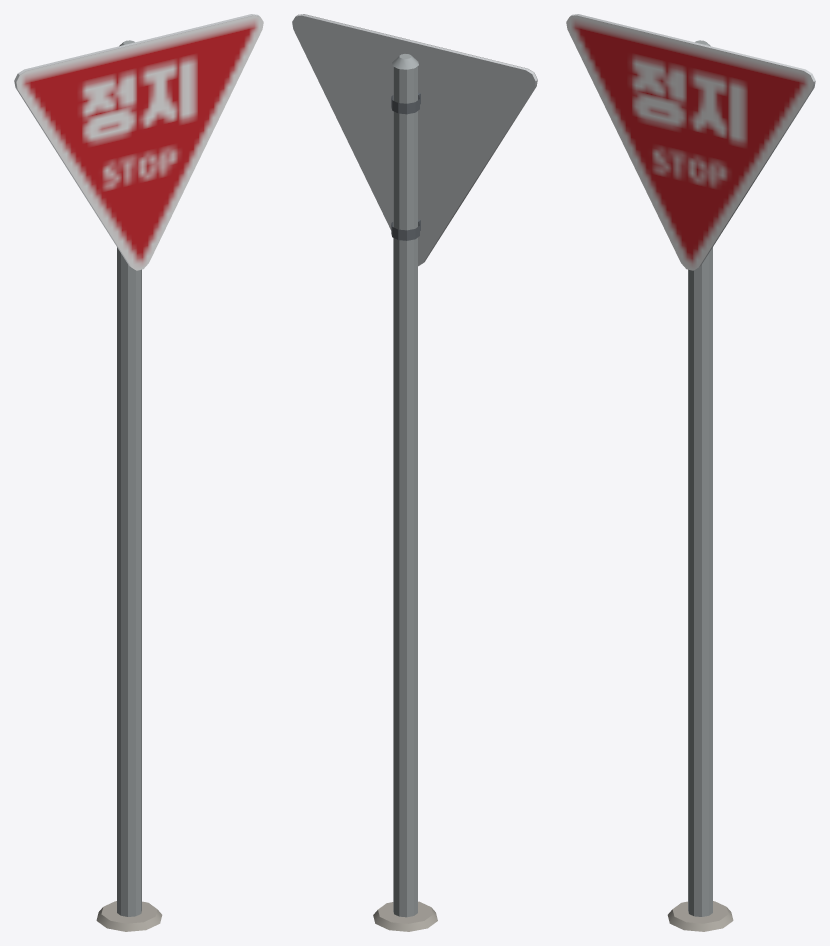
Rendered from SC_Str_Sign_Stop.gltf.
3 renders of one model, left to right at view 1: azimuth 30°, elevation 25°; view 2: azimuth 150°, elevation 25°; view 3: azimuth 330°, elevation 25°, orthographic.
Parts seen in each view (by area): view 1: SC_Str_Sign_Stop; view 2: SC_Str_Sign_Stop; view 3: SC_Str_Sign_Stop.
Part boxes in pixels (x1,y1,x2,y2): SC_Str_Sign_Stop: (14,14,263,931); SC_Str_Sign_Stop: (292,14,537,931); SC_Str_Sign_Stop: (566,14,815,931).
Bounding box in the file's own units: 0.8477 × 2.89 × 0.2.
Materials: 2 (2 with a texture image).
